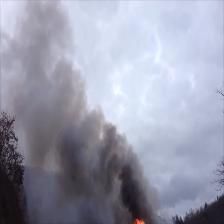fire: (133, 218, 144, 223)
smoke: (102, 156, 145, 212)
